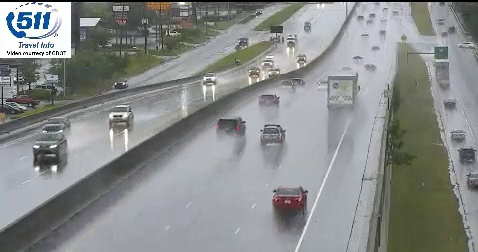car: (273, 186, 305, 212), (217, 117, 246, 138), (261, 126, 284, 144), (258, 94, 279, 110)
small-truck: (327, 71, 357, 108)
